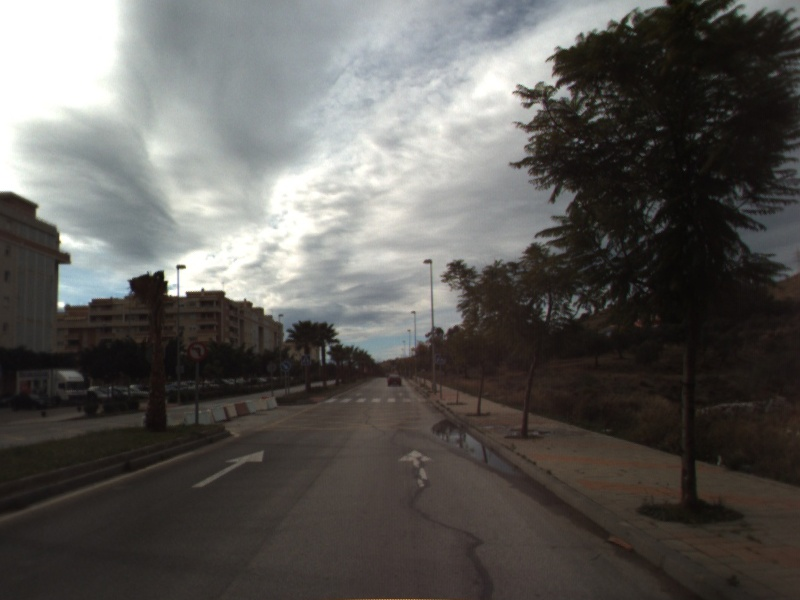STRAIGHT: (189, 448, 266, 490), (396, 447, 437, 489)
